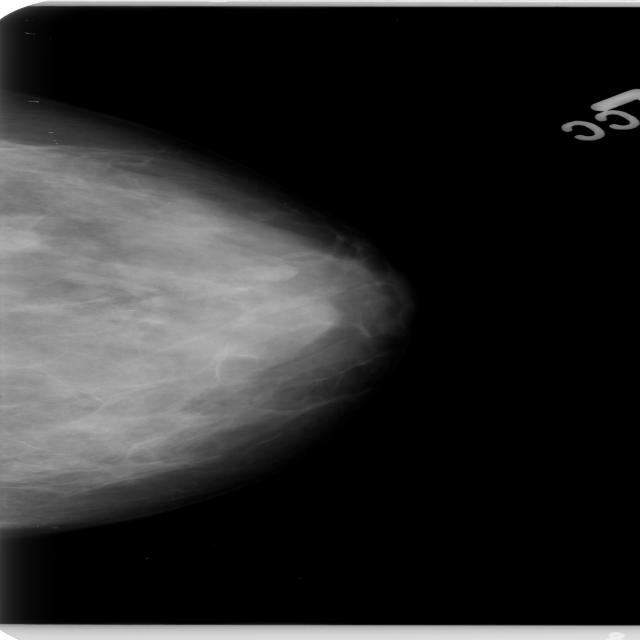normal: (0, 99, 479, 540)
